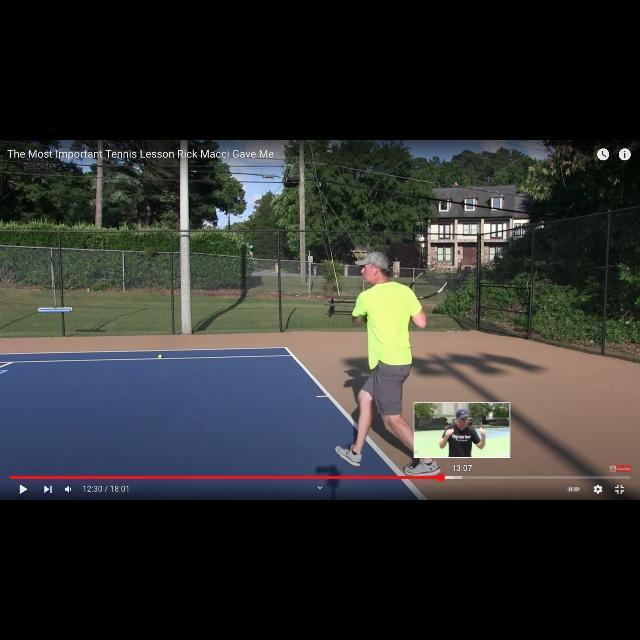tennis-ball: (158, 354, 162, 358)
